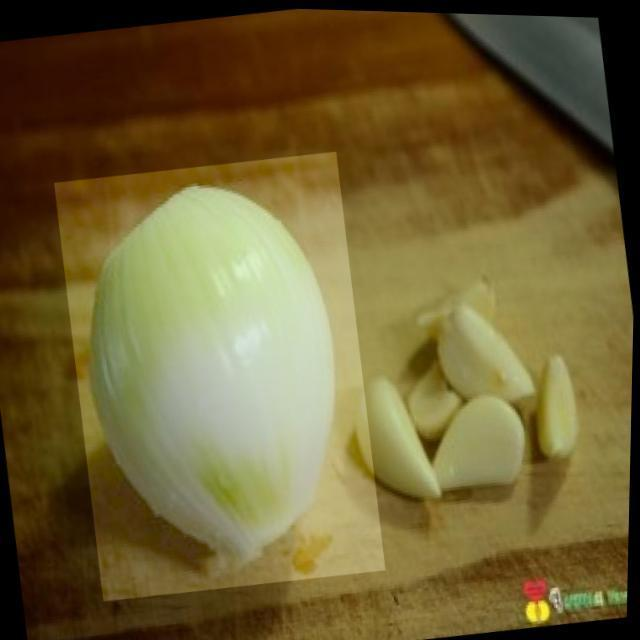Onion: (48, 143, 396, 608)
